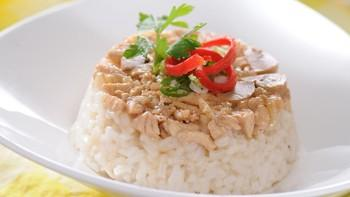daging: (242, 54, 268, 122)
makanan_berpati: (136, 152, 265, 180)
